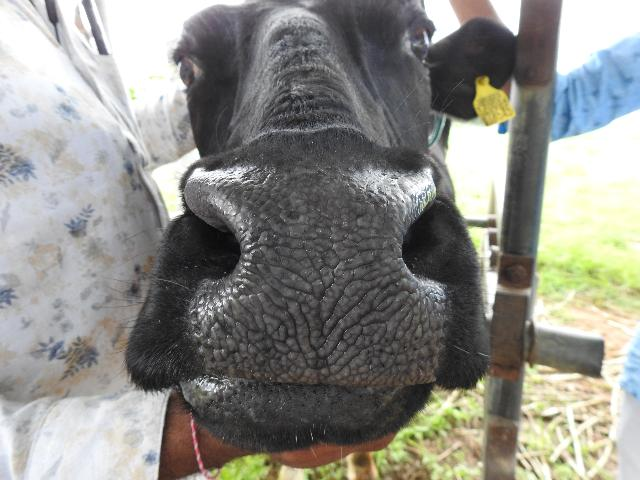Muzzle: (235, 171, 410, 375)
